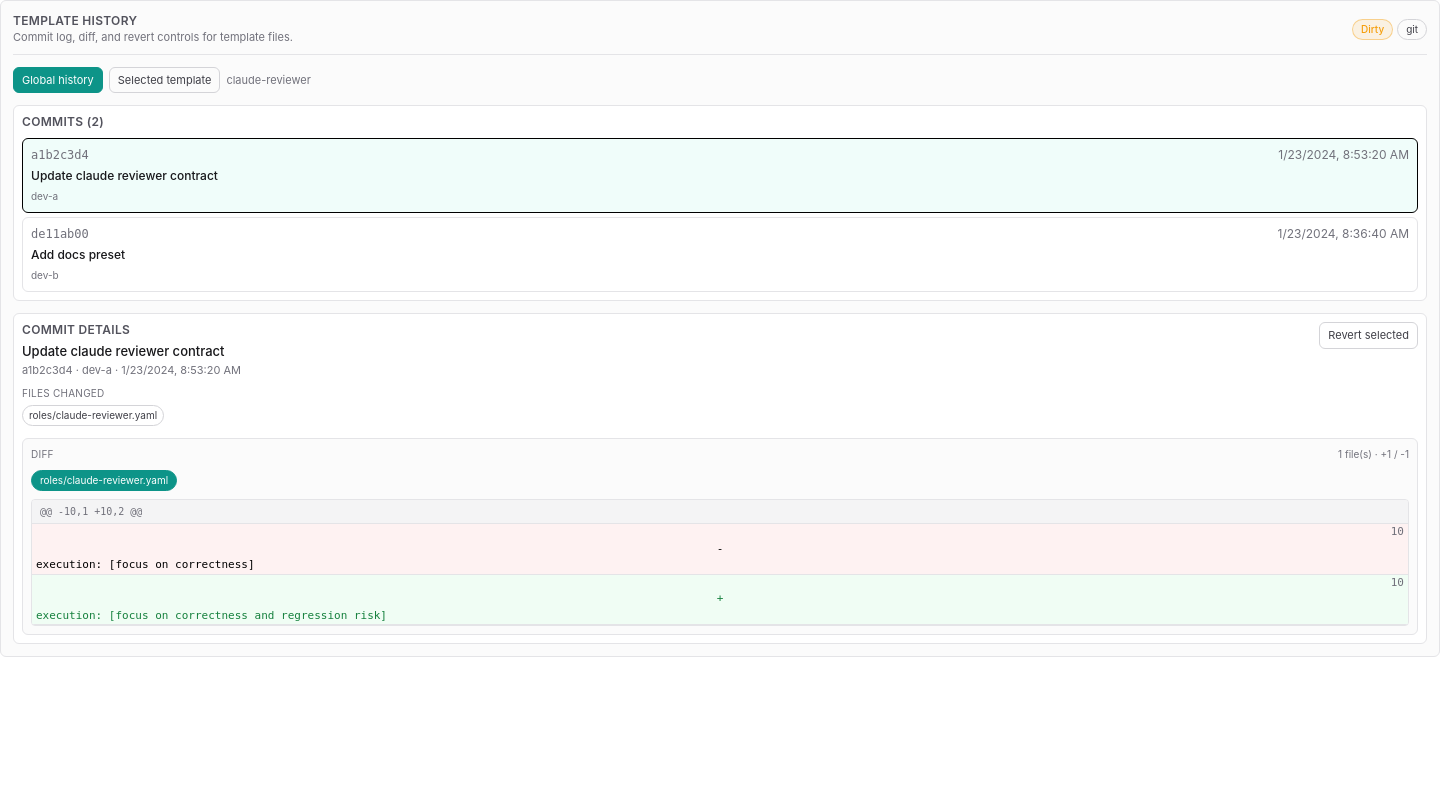
it: TemplateHistoryPanel › shows diff lines for selected commit
Expected: the button with test id "template-history-commit-a1b2c3d4" is shown, [22,138,1418,213]
Click the button with test id "template-history-commit-de11ab00".
click(60, 234)  # box [22,217,1418,292]
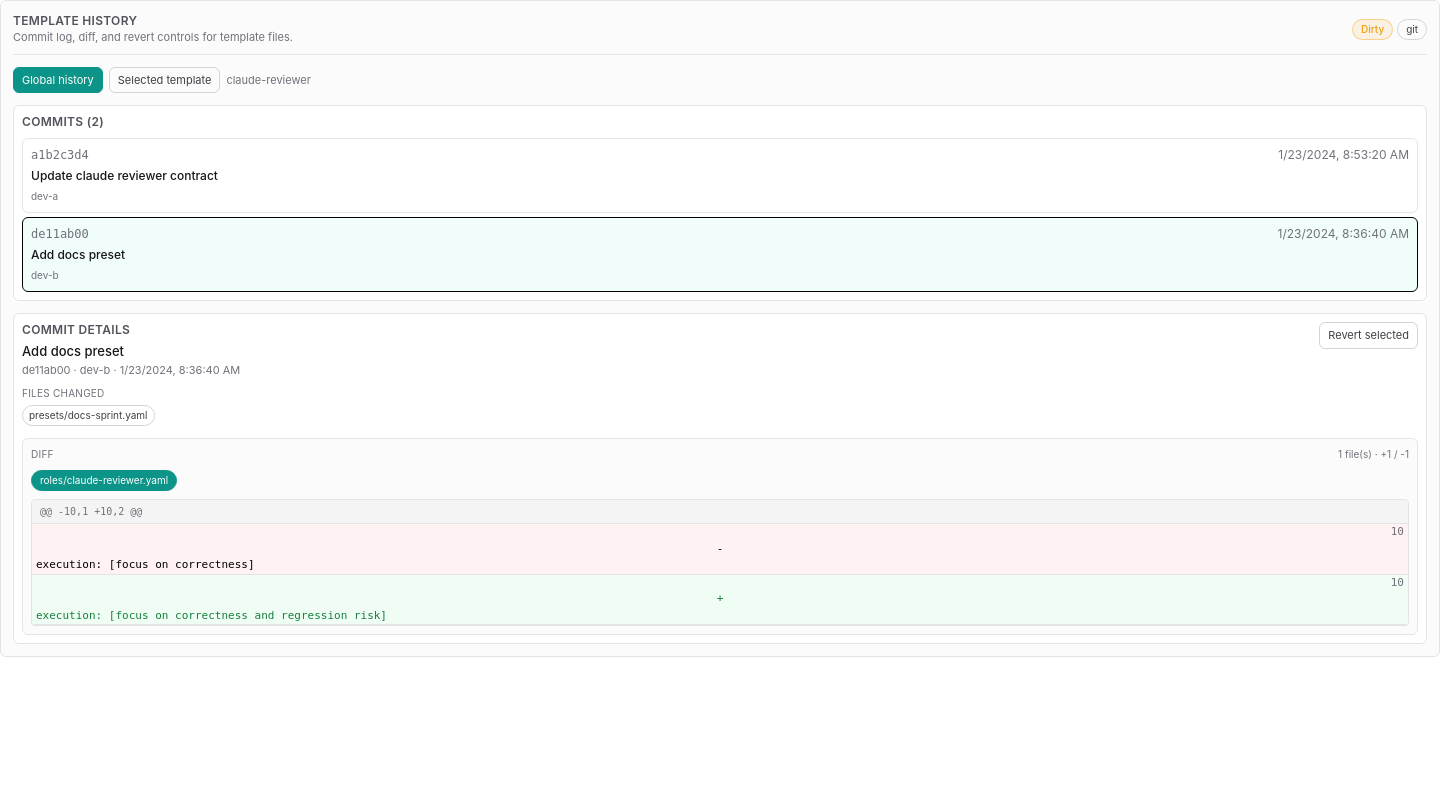
Expected: the element with test id "template-history-diff-line" that starts with "execution: [focus on correctness]" is shown, [32,523,1408,574]
Expected: the element with test id "template-history-detail-panel" shows "Add docs preset", [22,343,124,359]
